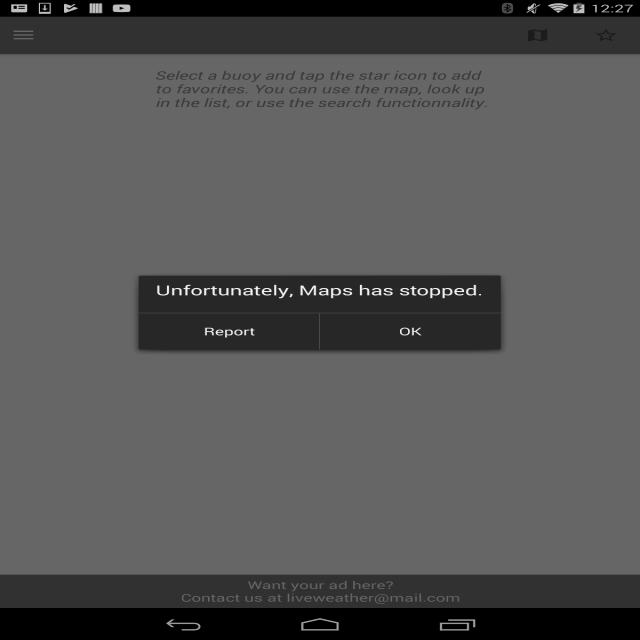ImageButton: (6, 24, 41, 44), (523, 27, 553, 46), (592, 28, 620, 45)
TextView: (150, 66, 492, 114), (155, 280, 490, 300), (242, 578, 401, 603), (194, 321, 266, 338), (388, 324, 431, 343)
